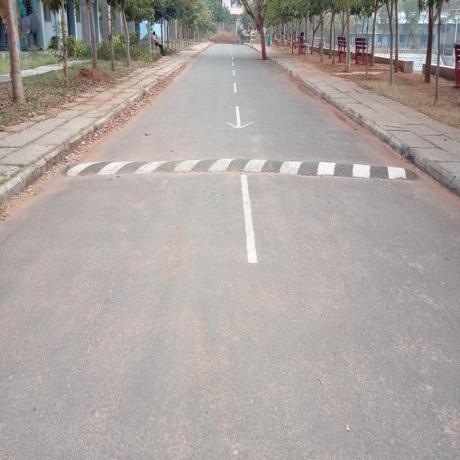Speed Bump: (64, 153, 417, 183)
